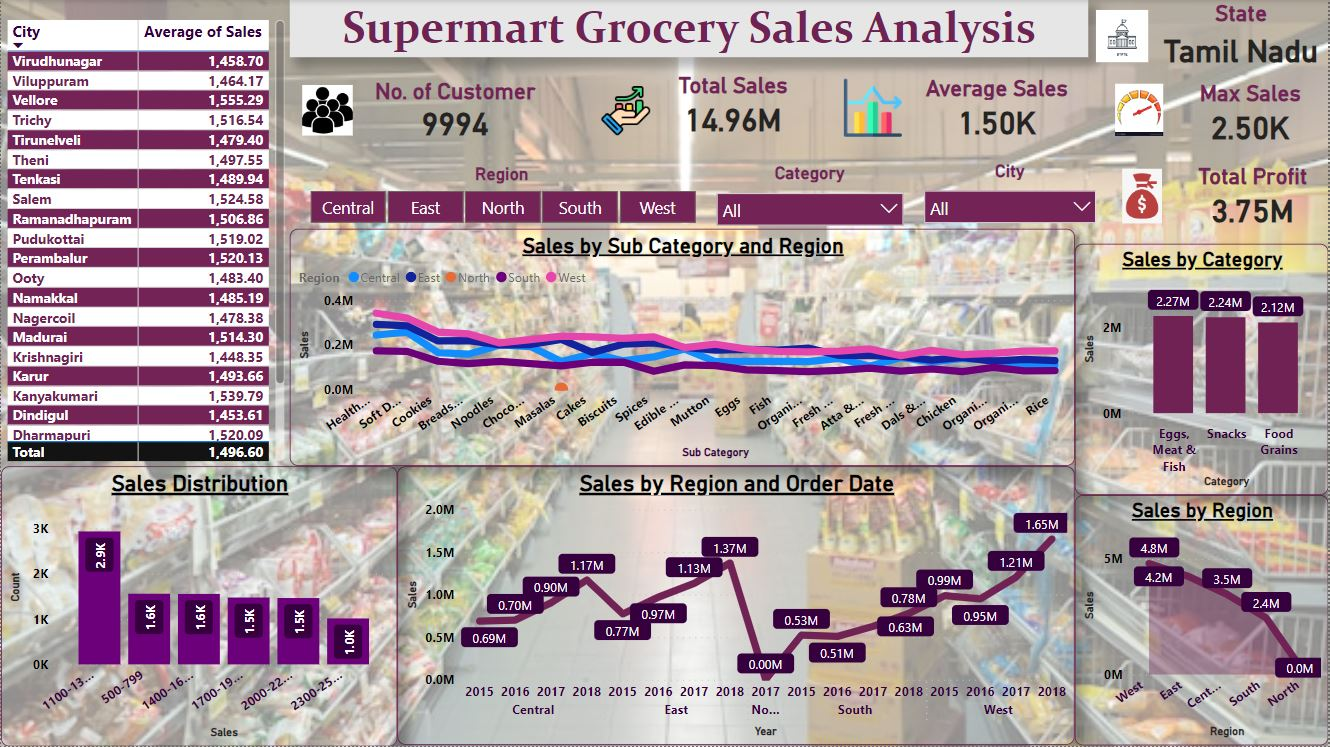

This screenshot's page, from the dashboard's own definition file:
{"tool":"powerbi","page":{"name":"Page 1","canvas":[1280,720],"ordinal":0},"visuals":[{"type":"lineChart","title":"Sales by Region and Order Date","fields":{"Category":["Supermart Grocery Sales - Retail Analytics Dataset.Region","Supermart Grocery Sales - Retail Analytics Dataset.Date.Variation.Date Hierarchy.Year"],"Y":["Sum(Supermart Grocery Sales - Retail Analytics Dataset.Sales)"]},"box":[382.3,449.8,653.7,268.9],"z":0},{"type":"areaChart","fields":{"Category":["Supermart Grocery Sales - Retail Analytics Dataset.Region"],"Y":["Sum(Supermart Grocery Sales - Retail Analytics Dataset.Sales)"]},"box":[1036,477.6,244.8,241.2],"z":1000},{"type":"card","title":"Total Sales","fields":{"Values":["Sum(Supermart Grocery Sales - Retail Analytics Dataset.Sales)"]},"box":[639.6,70,134.4,64.4],"z":2000},{"type":"card","title":"Average Sales","fields":{"Values":["Avg(Supermart Grocery Sales - Retail Analytics Dataset.Sales)"]},"box":[880.3,72.8,160.9,65.8],"z":3000},{"type":"card","title":"Max Sales","fields":{"Values":["Max(Supermart Grocery Sales - Retail Analytics Dataset.Sales)"]},"box":[1130.1,77.2,150.8,65.1],"z":4000},{"type":"card","title":"Total Profit","fields":{"Values":["Sum(Supermart Grocery Sales - Retail Analytics Dataset.Profit)"]},"box":[1143.3,158,129,62.7],"z":5000},{"type":"slicer","title":"Region","fields":{"Values":["Supermart Grocery Sales - Retail Analytics Dataset.Region"]},"box":[272.9,158.1,421.3,57.4],"z":6000},{"type":"slicer","title":"Category","fields":{"Values":["Supermart Grocery Sales - Retail Analytics Dataset.Category"]},"box":[680.2,156.7,200.1,61.6],"z":7000},{"type":"slicer","title":"City","fields":{"Values":["Supermart Grocery Sales - Retail Analytics Dataset.City"]},"box":[880.3,153.9,186.1,61.6],"z":8000},{"type":"card","title":"State","fields":{"Values":["Min(Supermart Grocery Sales - Retail Analytics Dataset.State)"]},"box":[1112,0,168.8,69.9],"z":9000},{"type":"card","title":"No. of Customer","fields":{"Values":["CountNonNull(Supermart Grocery Sales - Retail Analytics Dataset.Customer Name)"]},"box":[348.5,75.6,179.1,60.2],"z":10000},{"type":"columnChart","title":"Sales by Category","fields":{"Category":["Supermart Grocery Sales - Retail Analytics Dataset.Category"],"Y":["Sum(Supermart Grocery Sales - Retail Analytics Dataset.Sales)"]},"box":[1036,235.2,244.8,242.4],"z":11000},{"type":"tableEx","fields":{"Values":["Supermart Grocery Sales - Retail Analytics Dataset.City","Avg(Supermart Grocery Sales - Retail Analytics Dataset.Sales)"]},"box":[0,14.5,278.6,435.4],"z":12000},{"type":"shape","title":"Supermart Grocery Sales Analysis","box":[278.6,0,770.7,55.5],"z":14000},{"type":"image","box":[1072,158.1,57.4,63],"z":15000},{"type":"image","box":[801.9,71.4,78.4,65.8],"z":16000},{"type":"image","box":[1066.1,76,63.9,60.3],"z":17000},{"type":"image","box":[565.4,75.6,74.2,61.6],"z":18000},{"type":"image","box":[278.5,77,72.8,58.8],"z":19000},{"type":"image","box":[1051.7,0,60.3,69.9],"z":20000},{"type":"clusteredColumnChart","title":"Sales Distribution","fields":{"Y":["CountNonNull(Supermart Grocery Sales - Retail Analytics Dataset.Sales)"],"Category":["Supermart Grocery Sales - Retail Analytics Dataset.Sales(Group)"]},"box":[0,449.8,382.3,270.2],"z":21000},{"type":"lineChart","title":"Sales by Sub Category and Region","fields":{"Category":["Supermart Grocery Sales - Retail Analytics Dataset.Sub Category"],"Series":["Supermart Grocery Sales - Retail Analytics Dataset.Region"],"Y":["Sum(Supermart Grocery Sales - Retail Analytics Dataset.Sales)"]},"box":[278.6,220.7,757.4,229.1],"z":21001}]}

Visuals, with their boxes in screenshot pixels (x1, y1, x2, y2), scaled from the page's 1280x720 canvas onto the 1330x747 screenshot:
"Sales by Region and Order Date" lineChart: 397 467 1076 746
areaChart - Supermart Grocery Sales - Retail Analytics Dataset.Region x Sum(Supermart Grocery Sales - Retail Analytics Dataset.Sales): 1076 496 1329 746
"Total Sales" card: 665 73 804 139
"Average Sales" card: 915 76 1082 144
"Max Sales" card: 1174 80 1329 148
"Total Profit" card: 1188 164 1322 229
"Region" slicer: 284 164 721 224
"Category" slicer: 707 163 915 226
"City" slicer: 915 160 1108 224
"State" card: 1155 0 1329 73
"No. of Customer" card: 362 78 548 141
"Sales by Category" columnChart: 1076 244 1329 496
tableEx - Supermart Grocery Sales - Retail Analytics Dataset.City x Avg(Supermart Grocery Sales - Retail Analytics Dataset.Sales): 0 15 289 467
"Supermart Grocery Sales Analysis" shape: 289 0 1090 58
image: 1114 164 1174 229
image: 833 74 915 142
image: 1108 79 1174 141
image: 587 78 665 142
image: 289 80 365 141
image: 1093 0 1155 73
"Sales Distribution" clusteredColumnChart: 0 467 397 746
"Sales by Sub Category and Region" lineChart: 289 229 1076 467
